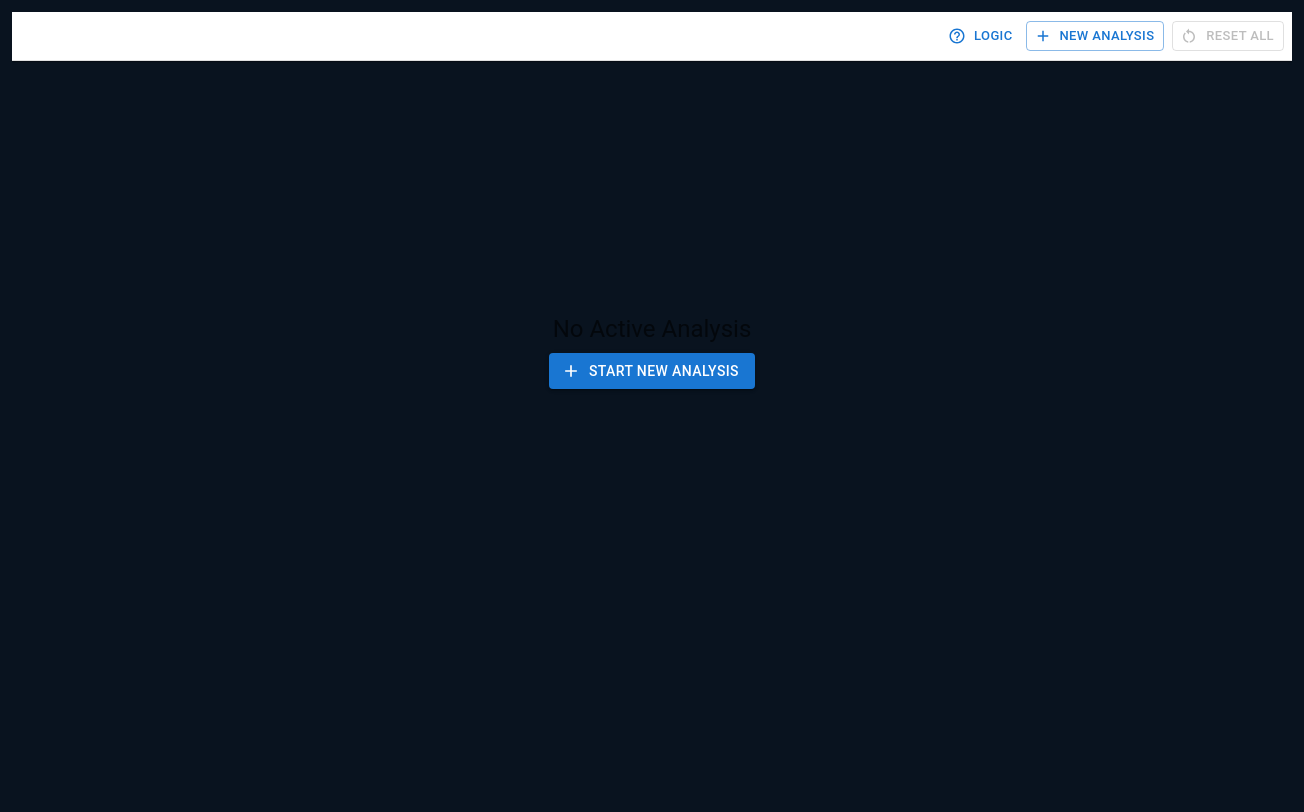
Test: ExceptionGeneratorView Multi-Tab › adds multiple tabs and switches between them
Note: Add Tab 1
Click the button "Start New Analysis" at (652, 371), box [549, 353, 755, 390]
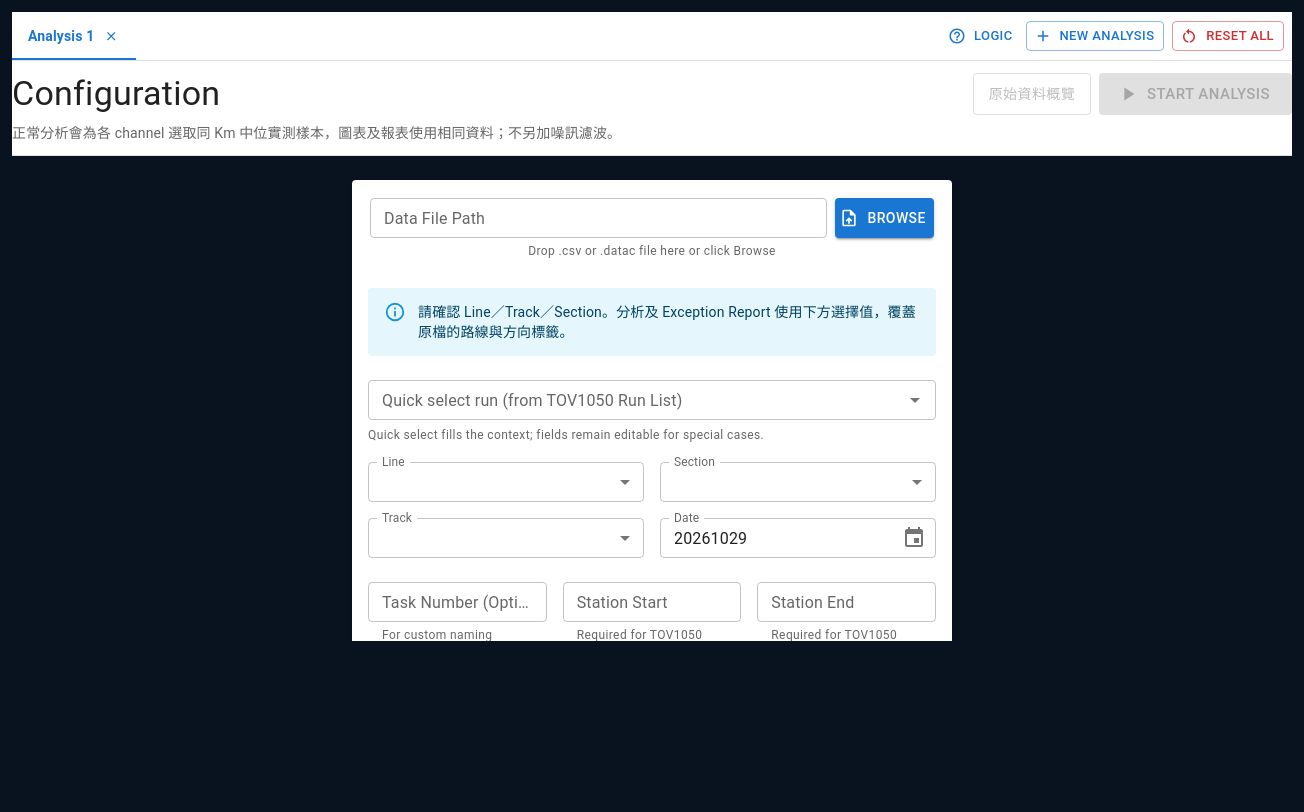
Now the text "Analysis 1" is shown, box [28, 26, 94, 46]
Note: Add Tab 2
Click the button "New Analysis" at (1095, 36), box [1026, 21, 1164, 51]
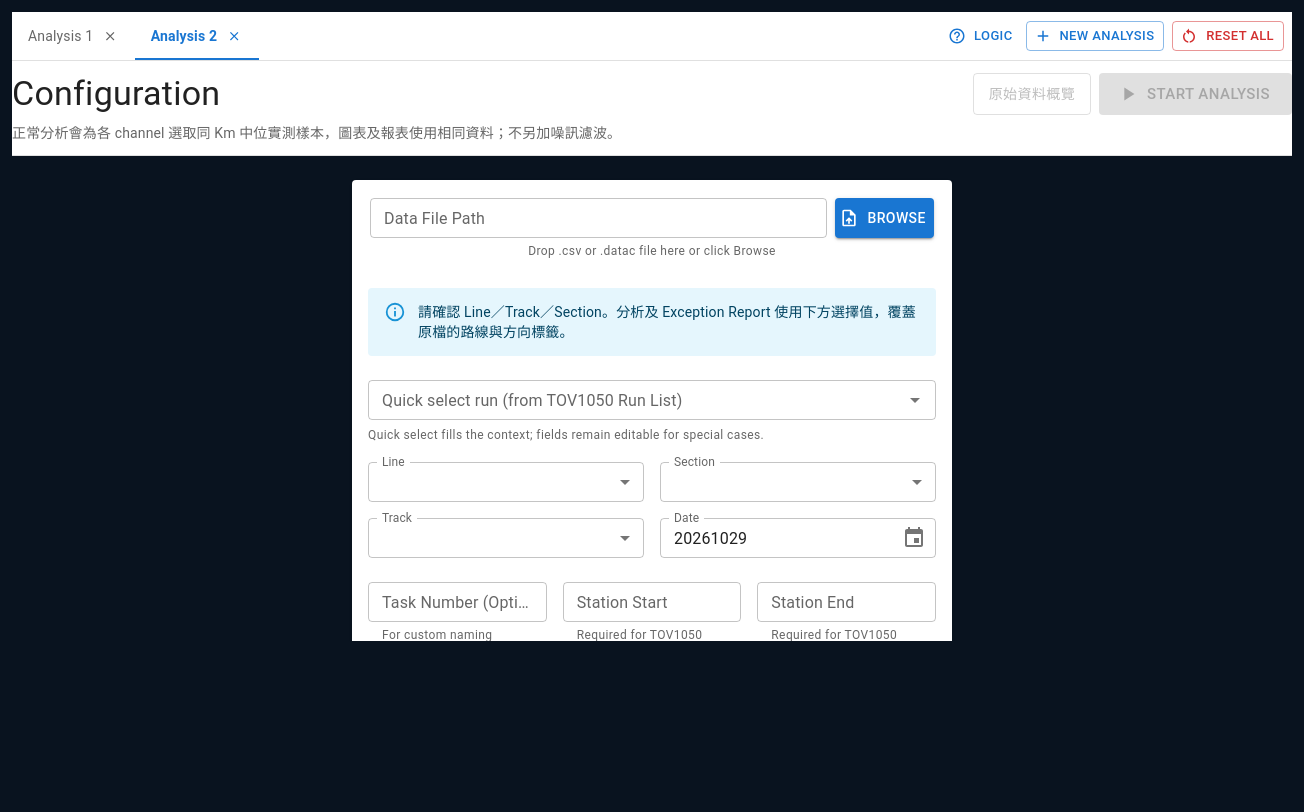
Now the text "Analysis 2" is shown, box [151, 26, 217, 46]
Now the number of tabs is 2, box [12, 12, 135, 60]; [135, 12, 259, 60]
